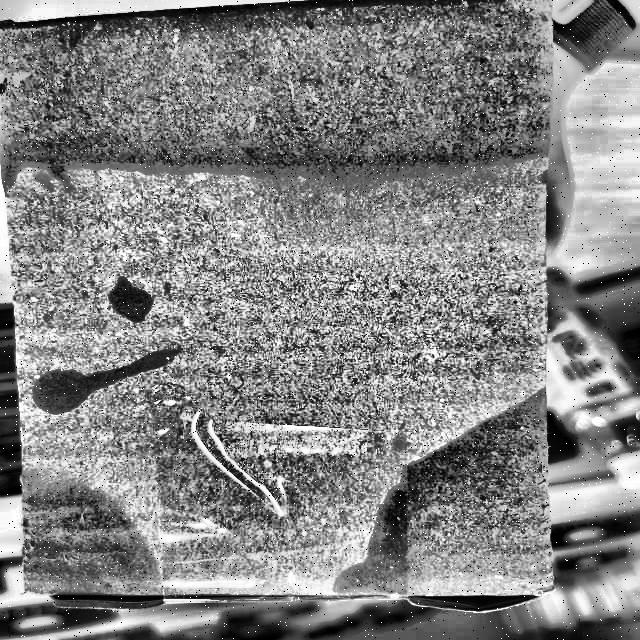box: (1, 1, 557, 618)
wet: (0, 16, 556, 180), (334, 393, 552, 604), (22, 489, 159, 597)
